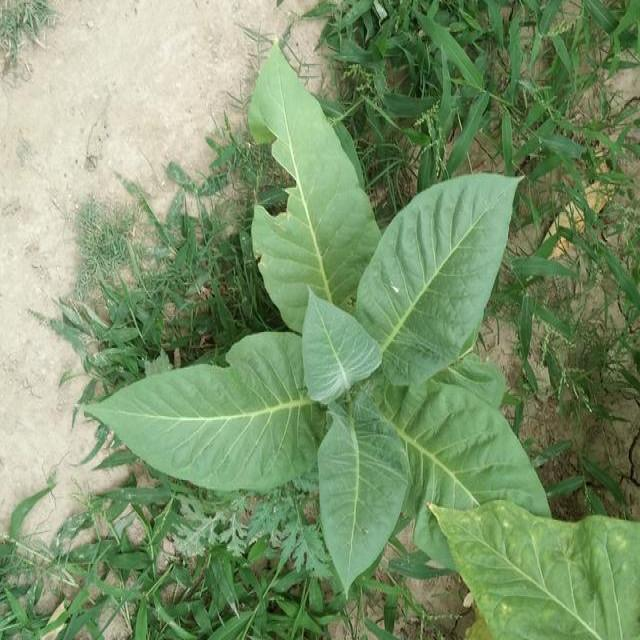crop: (80, 39, 570, 592)
